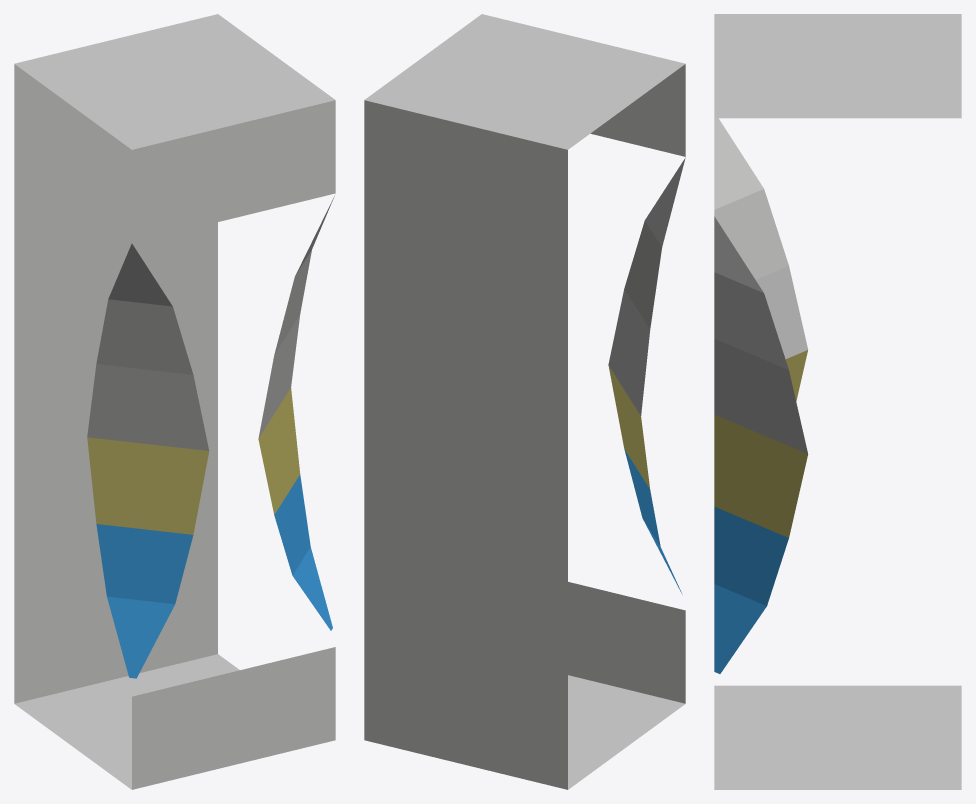
File: SM_Corner_T_Connector.fbx
3 views of the same model, side by side, from view 1: azimuth 30°, elevation 25°; view 2: azimuth 150°, elevation 25°; view 3: azimuth 270°, elevation 25° (orthographic). The views are drawn at different scales.
Parts seen in each view (by area): view 1: SM_Wall_DoubleSide.006; view 2: SM_Wall_DoubleSide.006; view 3: SM_Wall_DoubleSide.006.
Part boxes in pixels (x1,y1,x2,y2): SM_Wall_DoubleSide.006: (14, 14, 335, 789); SM_Wall_DoubleSide.006: (364, 14, 685, 789); SM_Wall_DoubleSide.006: (714, 14, 961, 789).
Size of the model in its own units: 200 by 600 by 200.
